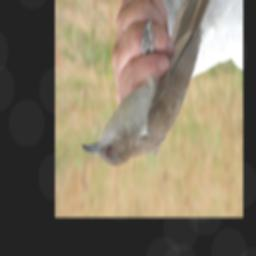Cuckoo: (81, 0, 234, 168)
